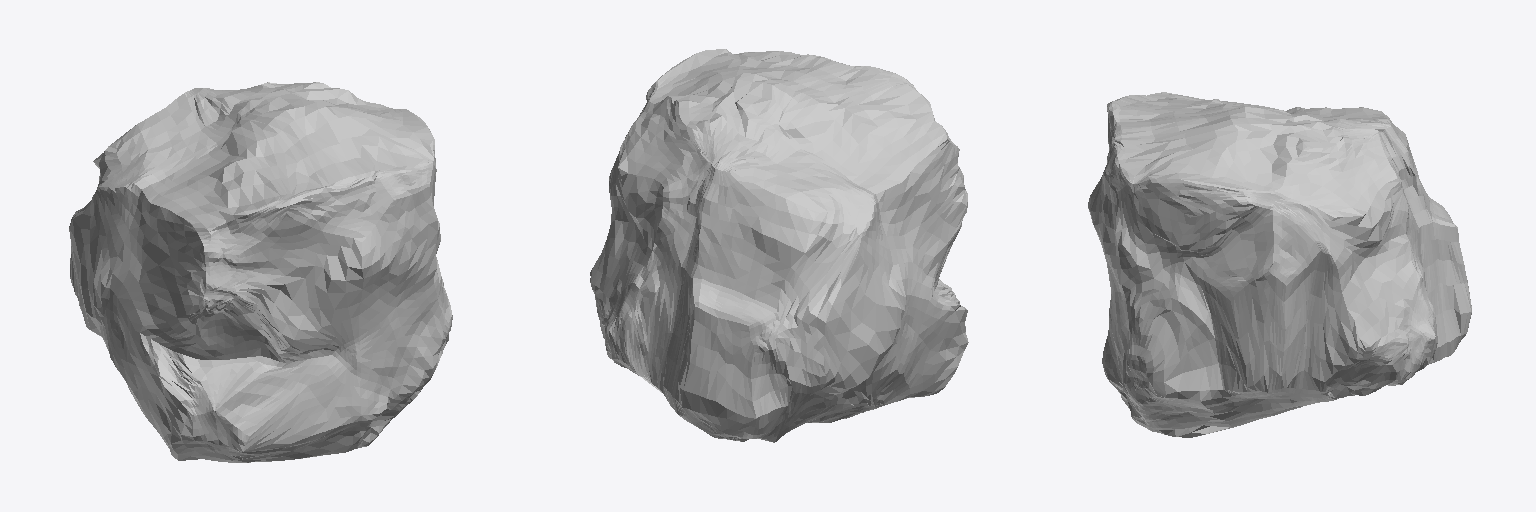
Rendered from Rock_03_Hite.OBJ.
The picture shows the model from 3 angles: view 1: azimuth 30°, elevation 25°; view 2: azimuth 150°, elevation 25°; view 3: azimuth 270°, elevation 25°; orthographic projection.
Visible parts, largest first — view 1: Group2; view 2: Group2; view 3: Group2.
Boxes of the visible parts, box(x1,y1,x2,y2) form: Group2: box(69, 82, 452, 462); Group2: box(590, 49, 968, 442); Group2: box(1088, 92, 1471, 437).
Size of the model in its own units: 15.85 by 16.06 by 18.03.